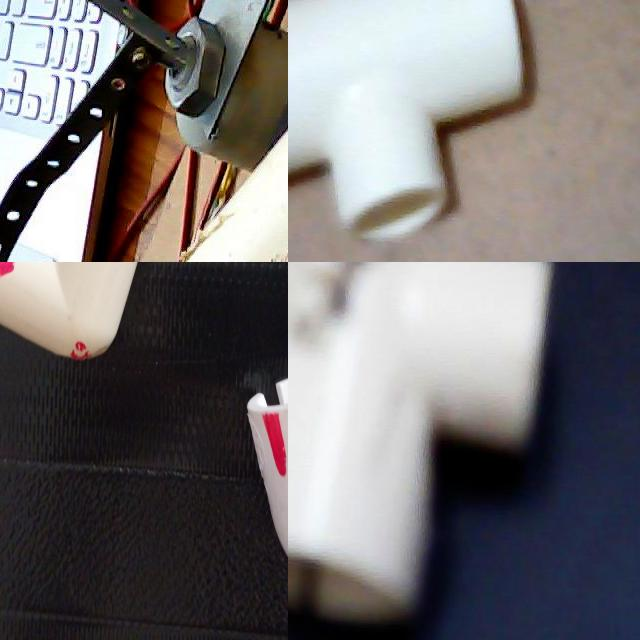Defective: (288, 262, 427, 375), (177, 322, 218, 380), (5, 557, 63, 588), (196, 276, 238, 318), (249, 221, 288, 262), (195, 221, 232, 262), (80, 289, 109, 334)
L Joint: (85, 262, 226, 405), (0, 532, 83, 640)
T Joint: (288, 262, 547, 634), (288, 0, 536, 242)
